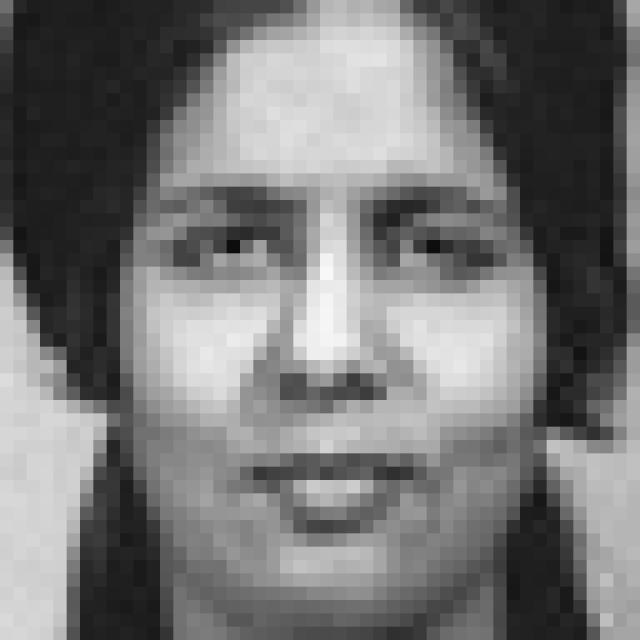neutral: (125, 165, 528, 548)
